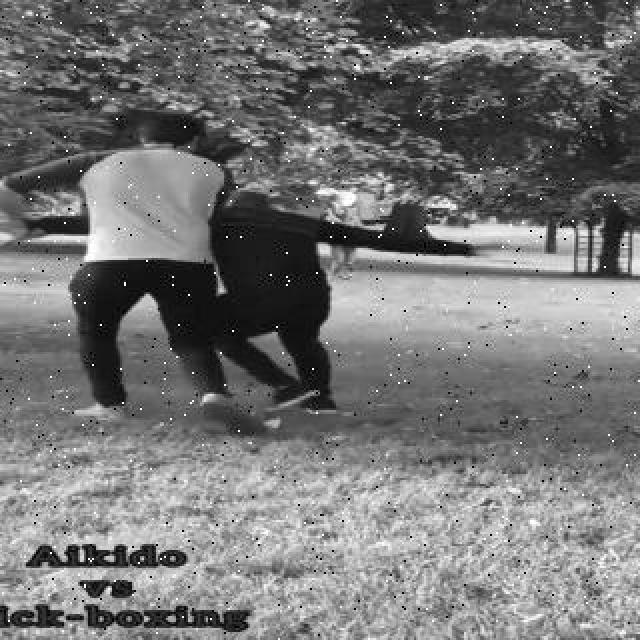fight: (8, 66, 378, 440)
